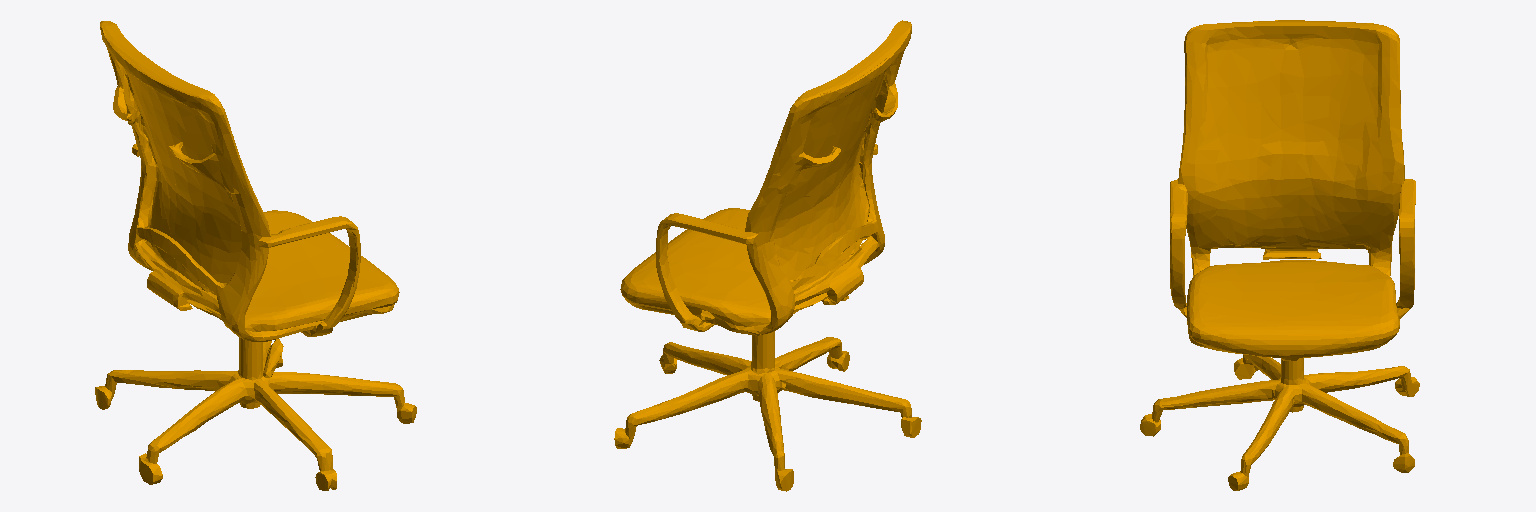
URDF robot description (office_chair_13):
<?xml version="1.0" ?>
<robot name="office_chair_13">
   <link name="office_chair_13">
      <visual>
         <origin xyz="0 0 0" rpy="1.5708 0.0 0.0"/>
         <geometry>
            <mesh filename="mesh/office_chair_13.obj" scale="1.0 1.0 1.0"/>
         </geometry>
      </visual>
      <collision>
         <origin xyz="0 0 0" rpy="1.5708 0.0 0.0"/>
         <geometry>
            <mesh filename="mesh/office_chair_13_collision.obj" scale="1.0 1.0 1.0"/>
         </geometry>
         <gazebo>
            <mu1>0.80</mu1>
            <mu2>0.60</mu2>
         </gazebo>
      </collision>
      <inertial>
         <mass value="12.5000"/>
         <origin xyz="0 0 0"/>
         <inertia ixx="1.0" ixy="0.0" ixz="0.0" iyy="1.0" iyz="0.0" izz="1.0"/>
      </inertial>
      <extra_info>
         <scale>1.100000</scale>
         <version>v0.1.5</version>
         <category>office_chair</category>
         <description>modern blue office chair with armrests and a five-wheel base</description>
         <min_height>1.0</min_height>
         <max_height>1.2</max_height>
         <real_height>1.1</real_height>
         <min_mass>10.0</min_mass>
         <max_mass>15.0</max_mass>
         <generate_time>20251021113327</generate_time>
         <gs_model>mesh/office_chair_13_gs.ply</gs_model>
      </extra_info>
   </link>
   <custom_data>
      <quality>
         <MeshGeoChecker>YES</MeshGeoChecker>
         <ImageSegChecker>YES</ImageSegChecker>
         <ImageAestheticChecker>5.201525092124939</ImageAestheticChecker>
         <overall>YES</overall>
      </quality>
   </custom_data>
</robot>

--- What the picture shows (computed from the rendered views, not written in the file) ---
3 views of the same robot in one strip: view 1: azimuth 30°, elevation 25°; view 2: azimuth 150°, elevation 25°; view 3: azimuth 270°, elevation 25° (orthographic).
Model office_chair_13 with 1 links and 0 joints (none), rooted at office_chair_13, posed every joint at zero.
Links seen in each view (by area): view 1: office_chair_13; view 2: office_chair_13; view 3: office_chair_13.
Link boxes in pixels (<box>): office_chair_13: <box>95,21,416,490</box>; office_chair_13: <box>614,20,921,491</box>; office_chair_13: <box>1140,20,1419,490</box>.
Size in the robot's own frame: 0.7778 by 0.7686 by 1.1 metres.
Meshes: 1 distinct files referenced, 1 mesh visuals loaded (1 OBJ).
